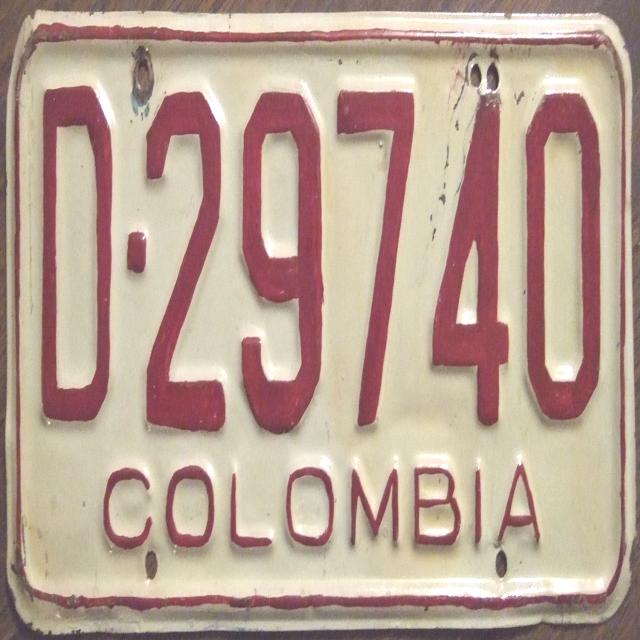placa: (3, 6, 639, 632)
